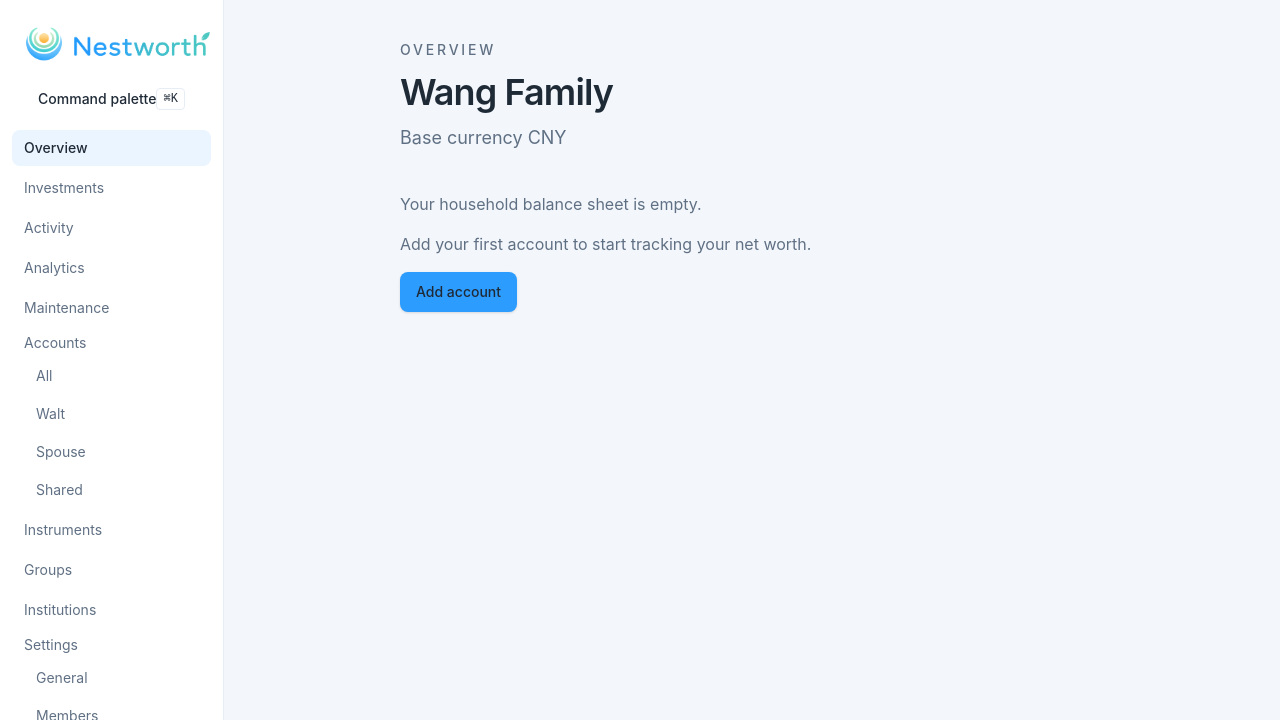
institutions page › shows the empty state, then creates an institution
Expected: the navigation bar named "Household" is shown, x1=0 y1=0 x2=224 y2=719
Click the link "Institutions" at (60, 610), box x1=24 y1=601 x2=96 y2=618
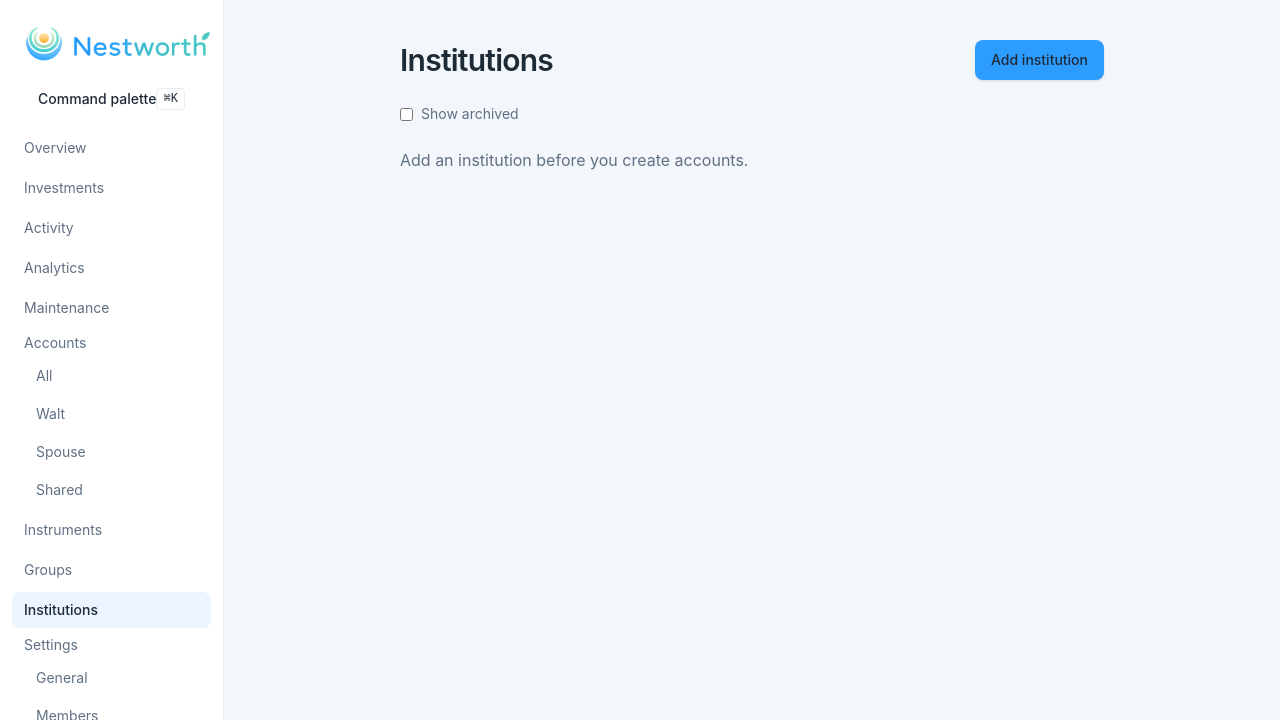
Now the text "Add an institution before you create accounts." is shown, box x1=400 y1=150 x2=748 y2=170
Click the button "Add institution" at (1040, 60), box x1=975 y1=40 x2=1104 y2=80
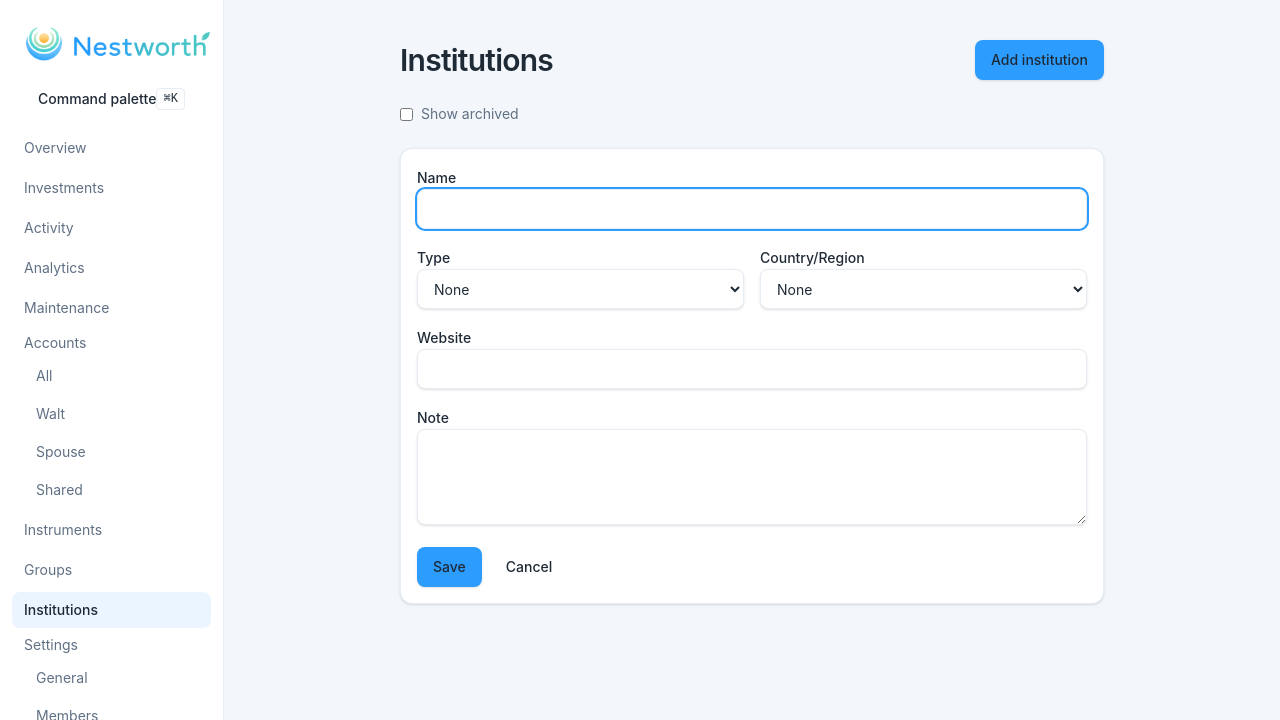
Type "DBS" into the field labelled "Name" at (752, 209), box x1=417 y1=189 x2=1087 y2=229
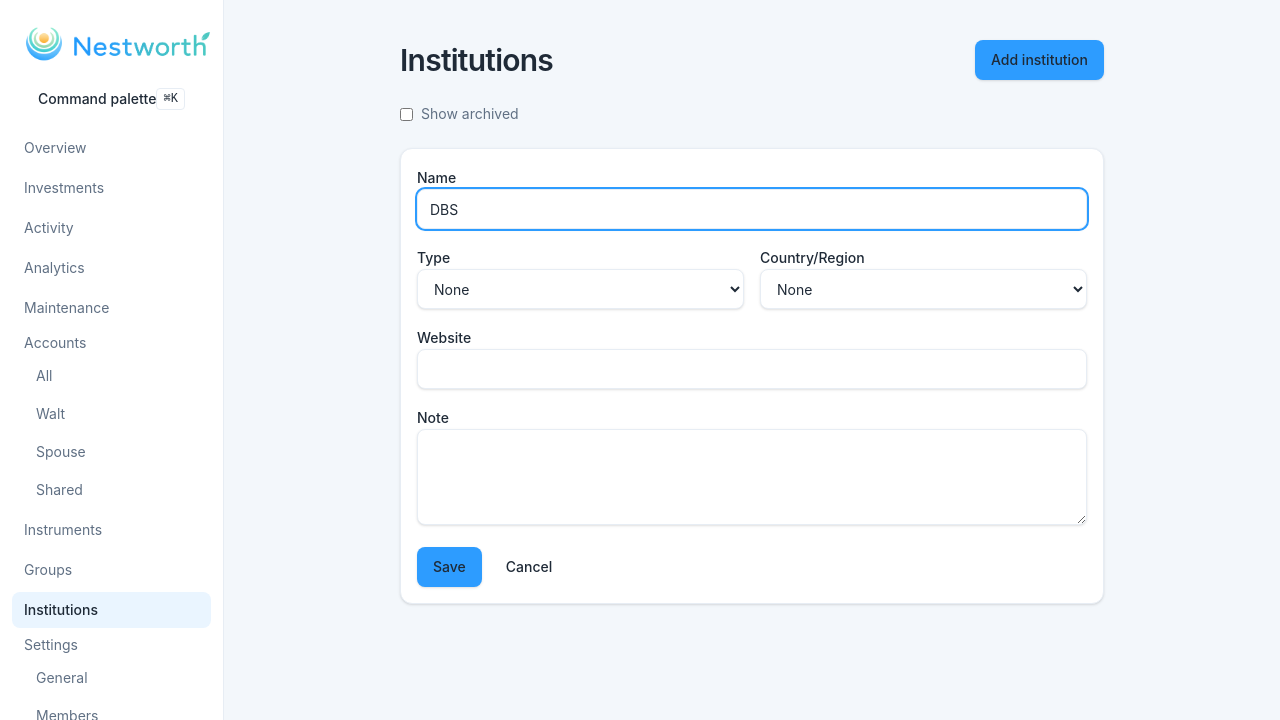
Select "Singapore (SG)" in the dropdown labelled "Country/Region" at (924, 289), box x1=760 y1=269 x2=1087 y2=309
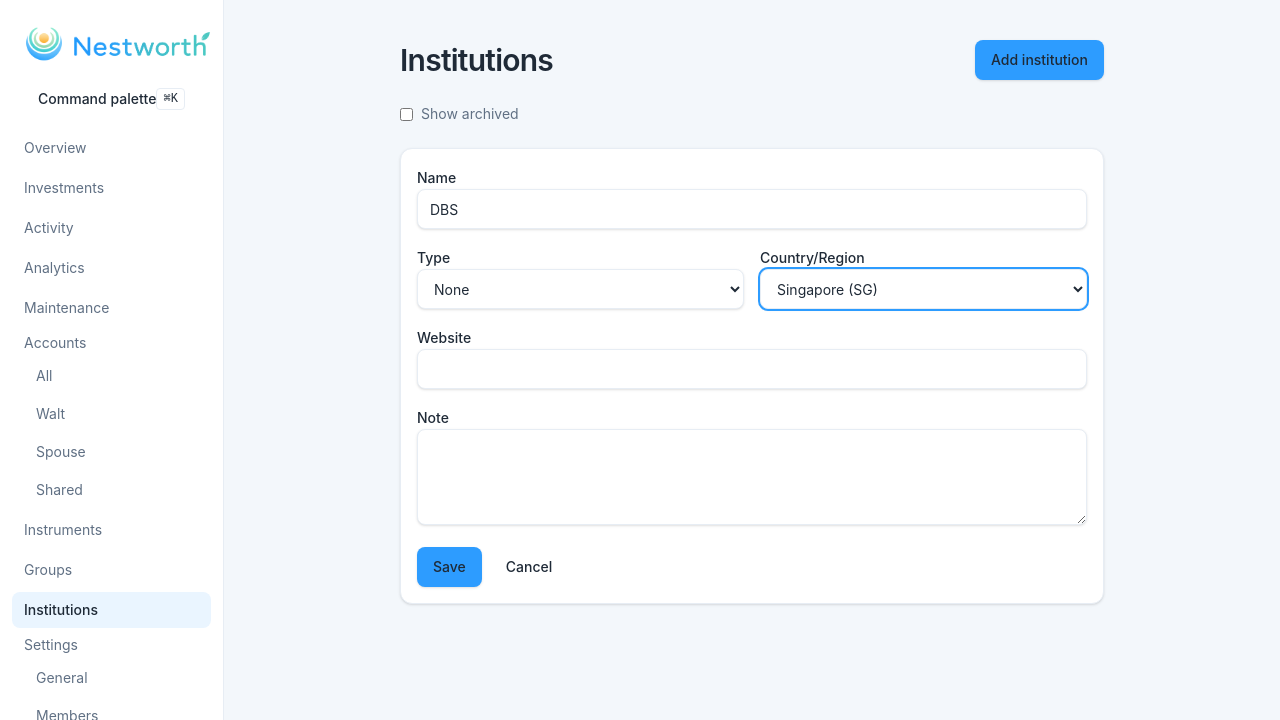
Click the button "Save" at (449, 567), box x1=417 y1=547 x2=482 y2=587
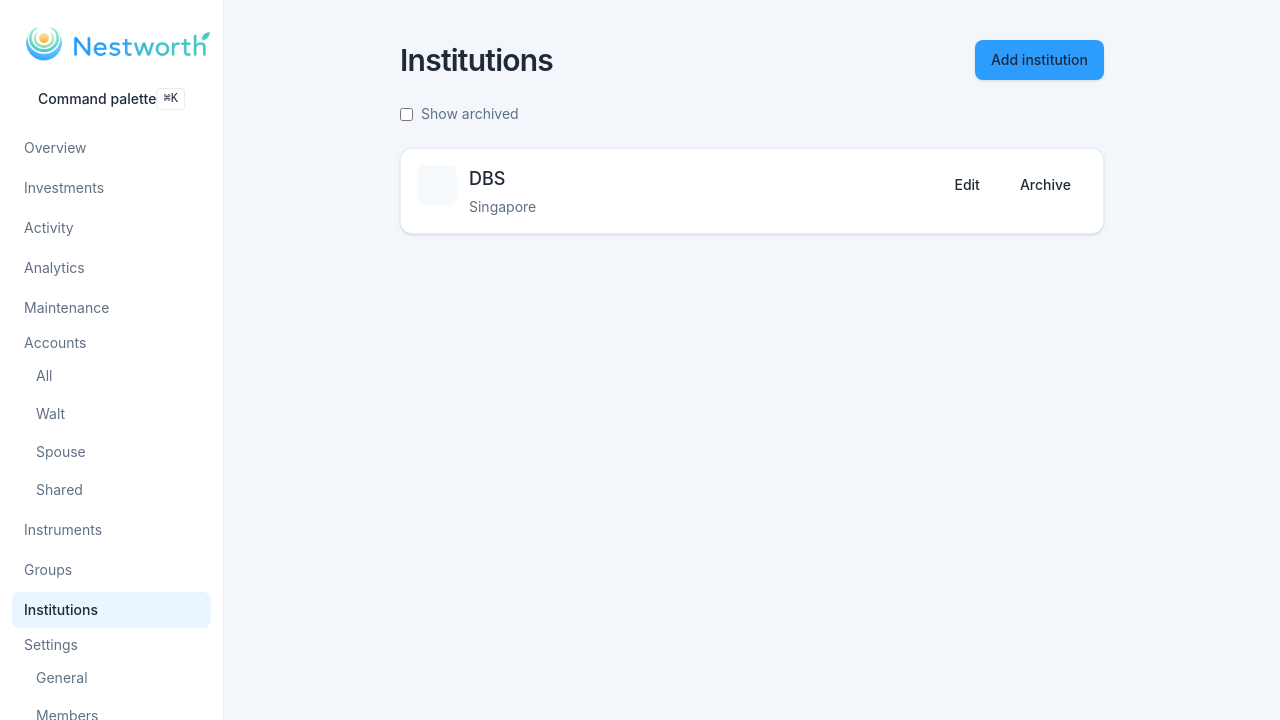
Now the heading "DBS" is shown, box x1=469 y1=168 x2=506 y2=189
